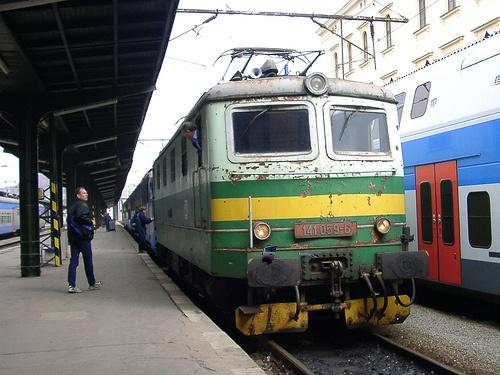tampered: (263, 245, 318, 265)
